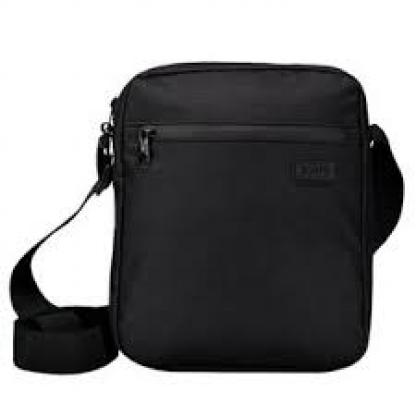morral: (4, 35, 408, 392)
